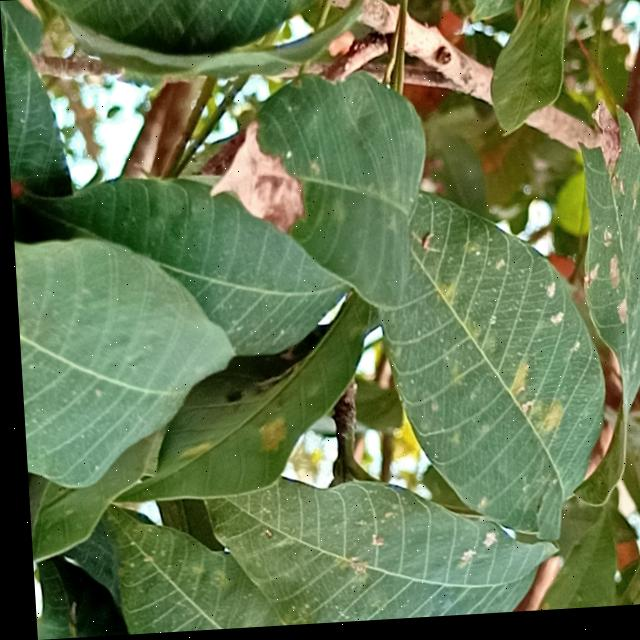Leaf-Blight: (205, 120, 304, 243), (590, 105, 622, 178)
